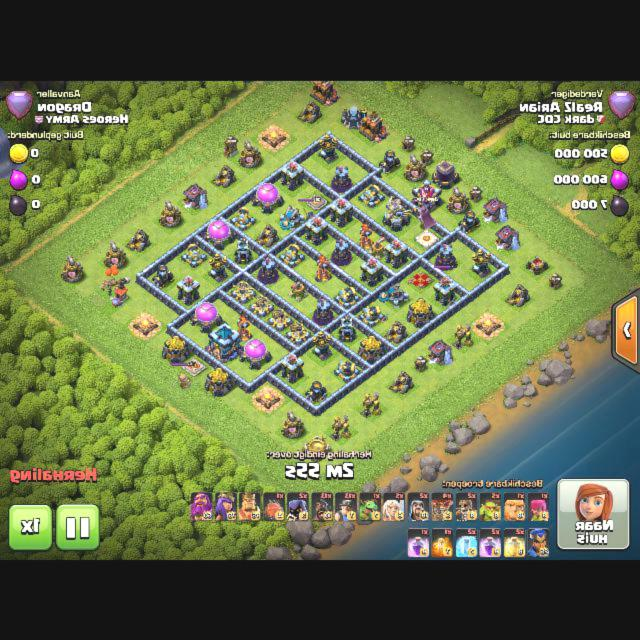AD: (312, 330, 333, 360), (319, 132, 339, 162), (472, 247, 492, 277), (209, 252, 229, 282)
AirSweeper: (369, 235, 388, 259), (289, 281, 308, 302)
BombTower: (339, 313, 356, 341), (234, 236, 251, 263)
Canon: (358, 183, 385, 207), (230, 206, 257, 230), (182, 242, 208, 266), (280, 243, 306, 267), (334, 359, 361, 381), (334, 286, 361, 308), (359, 304, 385, 326)
ClanCastle: (412, 178, 442, 212)
Eagle: (383, 194, 411, 230)
Inferno: (315, 254, 332, 281), (359, 222, 375, 249), (236, 315, 252, 341)
KingPad: (182, 358, 205, 375)
Mortar: (378, 149, 401, 173), (152, 263, 175, 287), (458, 210, 481, 233), (306, 380, 328, 402)
QueenPad: (408, 271, 433, 288)
RcPad: (307, 194, 326, 209)
Scattershot: (379, 282, 409, 307), (280, 204, 305, 229)
TH13: (208, 320, 242, 362)
WardenPad: (416, 229, 437, 245)
WizzTower: (332, 164, 352, 191), (436, 243, 456, 270), (314, 298, 334, 325), (332, 238, 351, 265), (259, 256, 278, 283)
Xbow: (286, 320, 312, 345), (268, 307, 294, 331), (231, 281, 257, 304), (249, 294, 275, 317)
